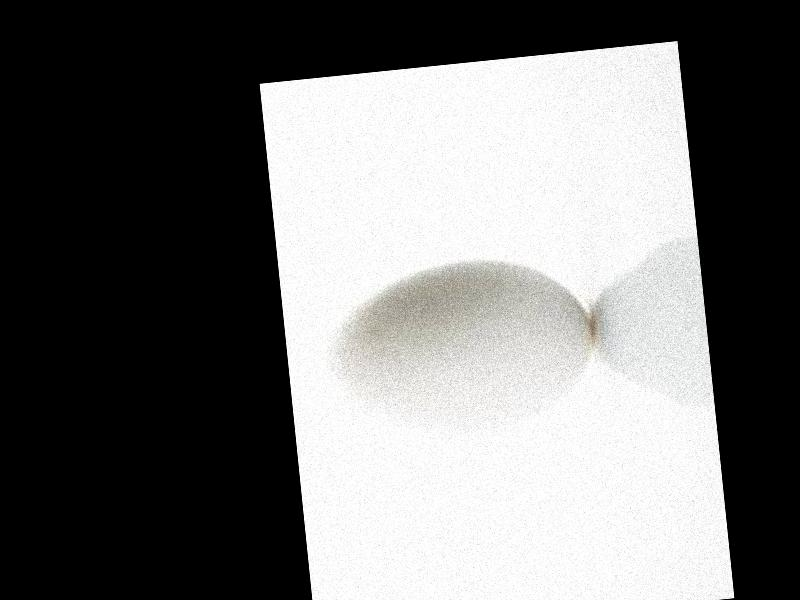Eggs: (321, 249, 600, 440)
